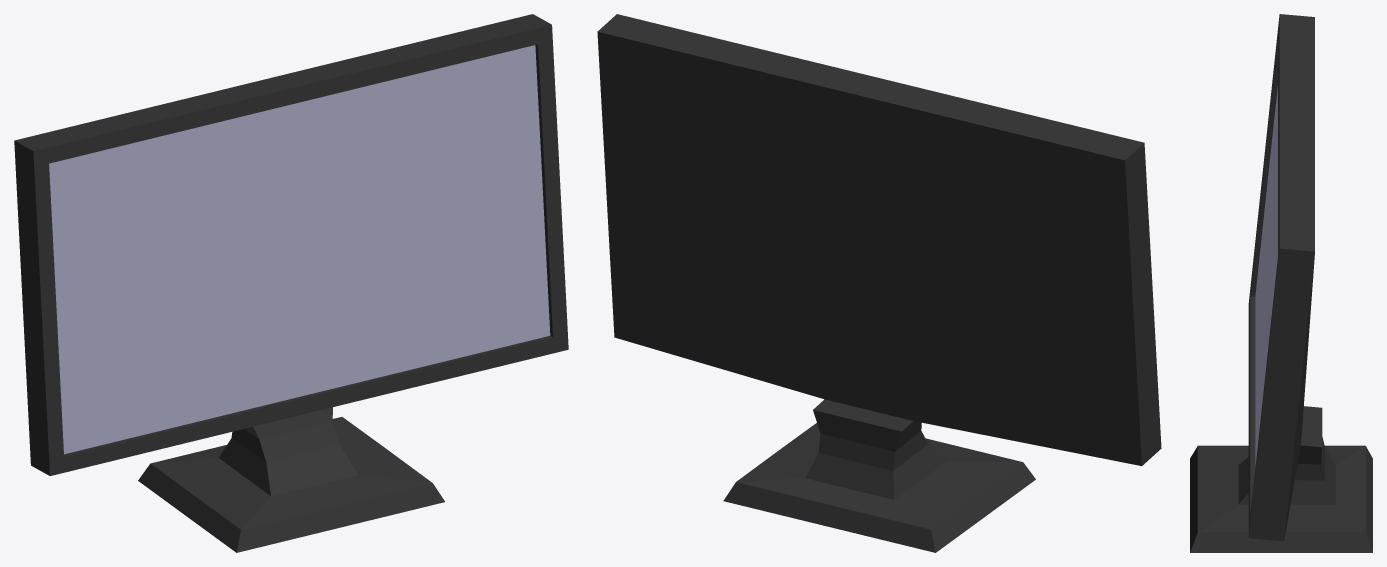
File: gaming_screen.glb
3 renders of one model, left to right at view 1: azimuth 30°, elevation 25°; view 2: azimuth 150°, elevation 25°; view 3: azimuth 270°, elevation 25°, orthographic. The views are drawn at different scales.
Visible parts, largest first — view 1: Gaming_Screen; view 2: Gaming_Screen; view 3: Gaming_Screen.
Part boxes in pixels (x1=…): Gaming_Screen: x1=14, y1=14, x2=568, y2=552; Gaming_Screen: x1=597, y1=14, x2=1161, y2=552; Gaming_Screen: x1=1190, y1=14, x2=1372, y2=552.
Size of the model in its own units: 0.8727 by 0.6499 by 0.2876.
Materials: 1 (1 with a texture image).
